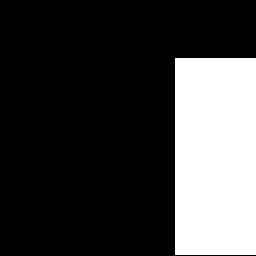rumex: (175, 58, 256, 254)
